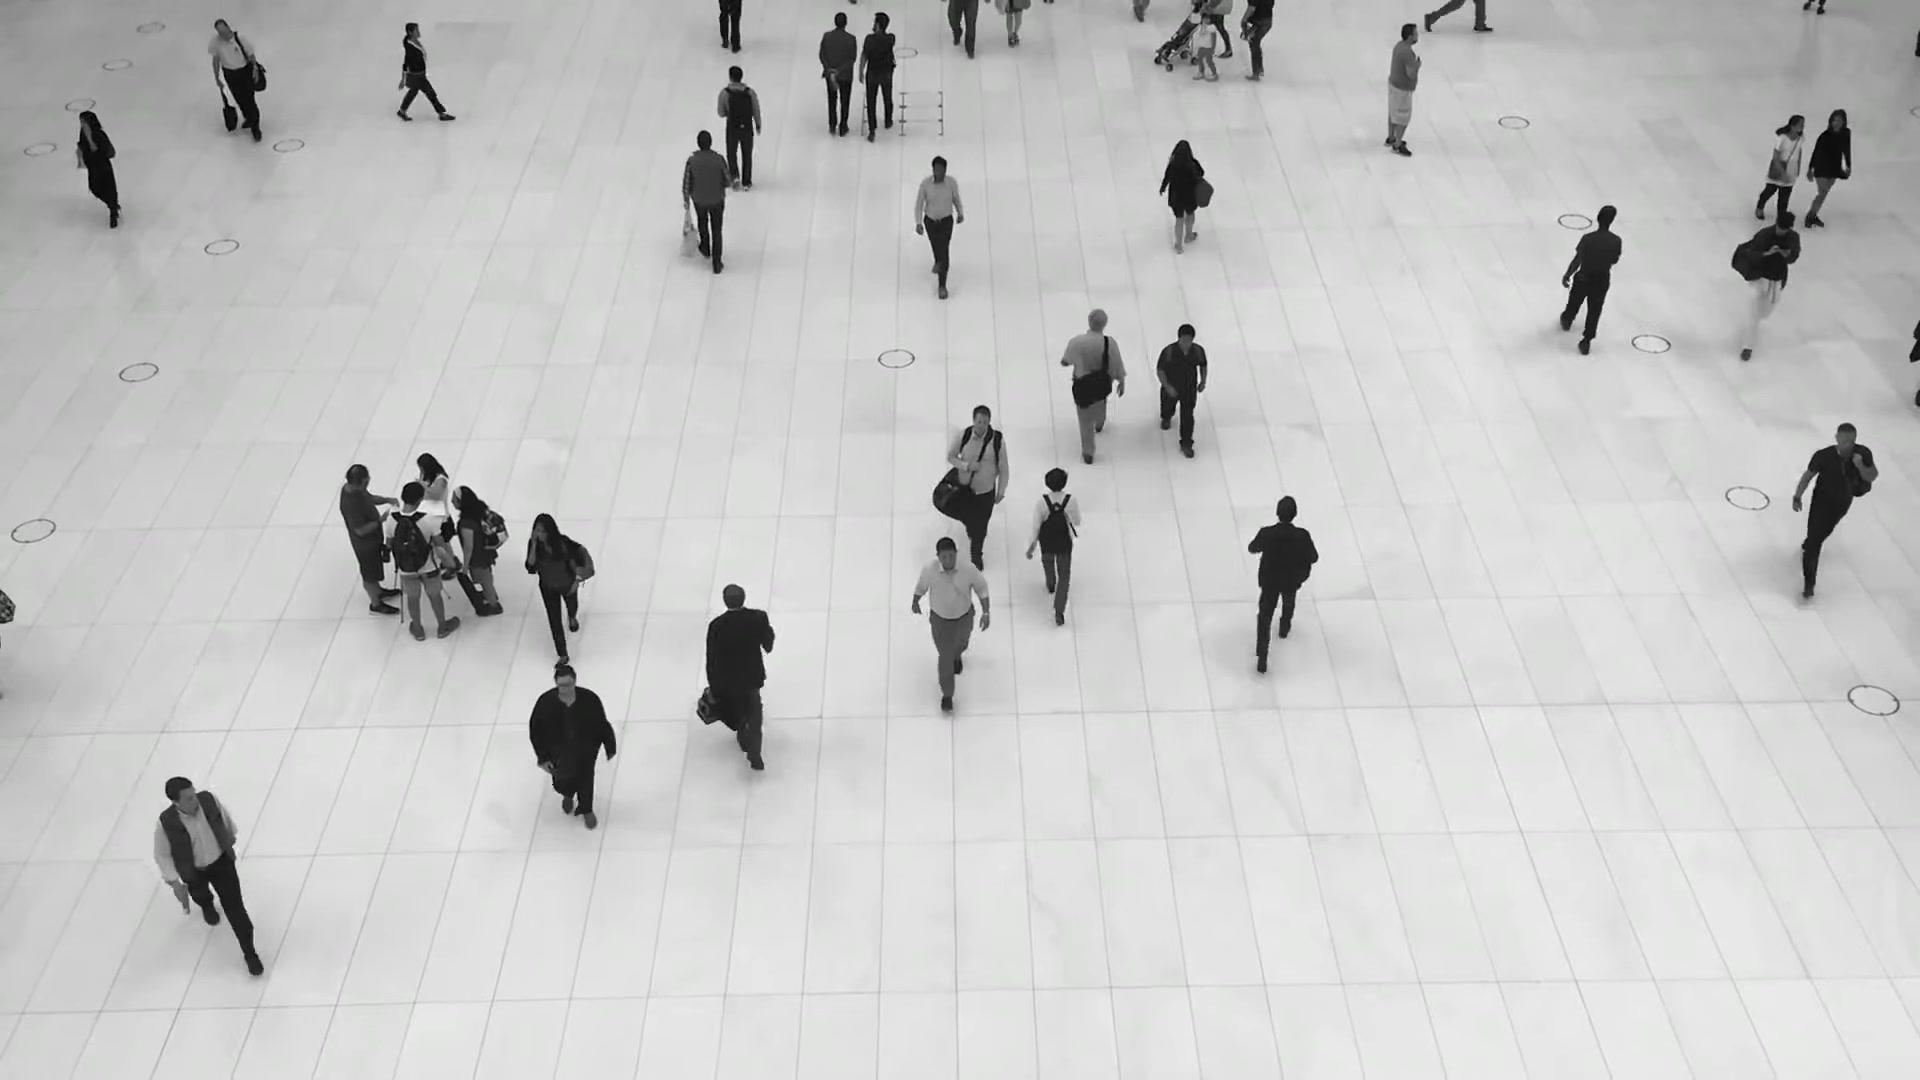person: (153, 771, 252, 965), (1790, 421, 1877, 599), (527, 662, 613, 839), (911, 534, 990, 706), (705, 583, 777, 771), (1244, 494, 1318, 659), (383, 482, 458, 642), (946, 401, 1009, 568), (523, 509, 594, 661), (1731, 209, 1801, 357), (1061, 311, 1125, 470), (1560, 206, 1621, 360), (339, 464, 400, 616), (1028, 466, 1082, 614), (680, 133, 732, 279), (1154, 320, 1209, 451), (914, 153, 965, 293), (450, 485, 503, 617), (207, 18, 262, 141), (1800, 109, 1849, 236), (715, 68, 762, 198), (1162, 142, 1213, 261), (75, 109, 122, 229), (415, 453, 459, 580), (1755, 112, 1805, 216), (1383, 23, 1421, 157), (815, 14, 854, 143), (856, 14, 894, 141), (396, 20, 442, 122), (1191, 14, 1220, 83)
